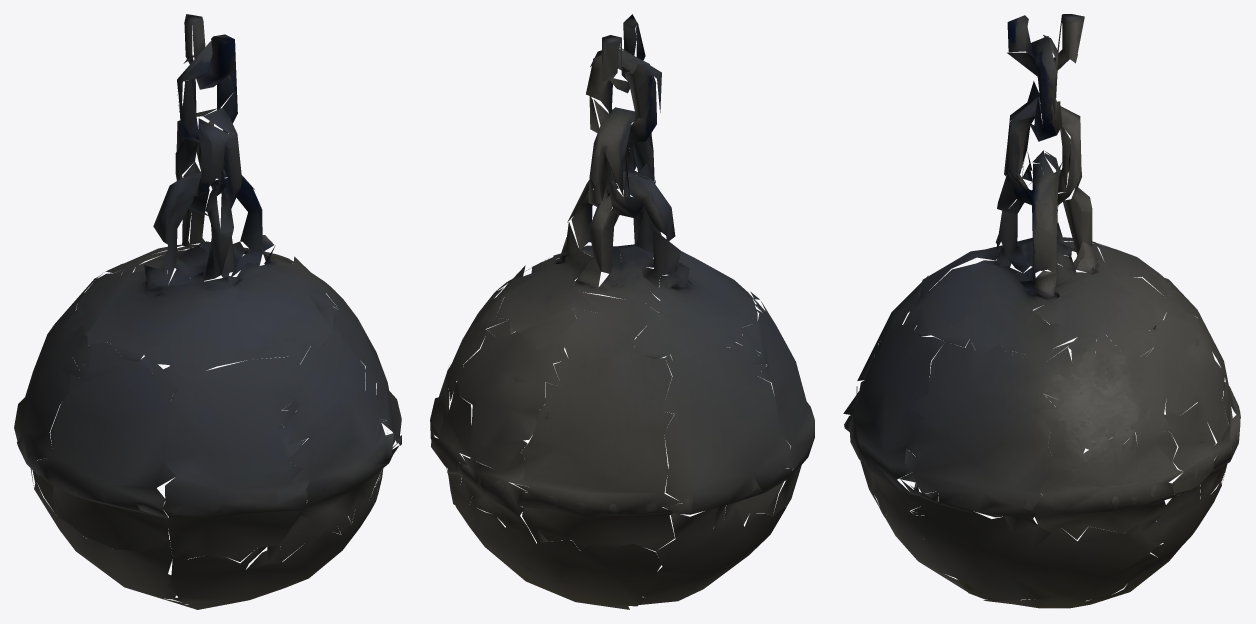
File: penn_wrecking_ball.glb
The picture shows the model from 3 angles, left to right: view 1: azimuth 30°, elevation 25°; view 2: azimuth 150°, elevation 25°; view 3: azimuth 270°, elevation 25°; orthographic projection. The views are drawn at different scales.
Parts seen in each view (by area): view 1: tripo_node_ba0d85de-a350-4d3a-b180-3072516b49f0; view 2: tripo_node_ba0d85de-a350-4d3a-b180-3072516b49f0; view 3: tripo_node_ba0d85de-a350-4d3a-b180-3072516b49f0.
Part boxes in pixels (box(x1,y1,x2,y2)): tripo_node_ba0d85de-a350-4d3a-b180-3072516b49f0: box(14, 14, 401, 609); tripo_node_ba0d85de-a350-4d3a-b180-3072516b49f0: box(430, 14, 814, 609); tripo_node_ba0d85de-a350-4d3a-b180-3072516b49f0: box(843, 14, 1240, 608).
Bounding box in the file's own units: 0.6282 × 1 × 0.6313.
1 material, 1 textured.
